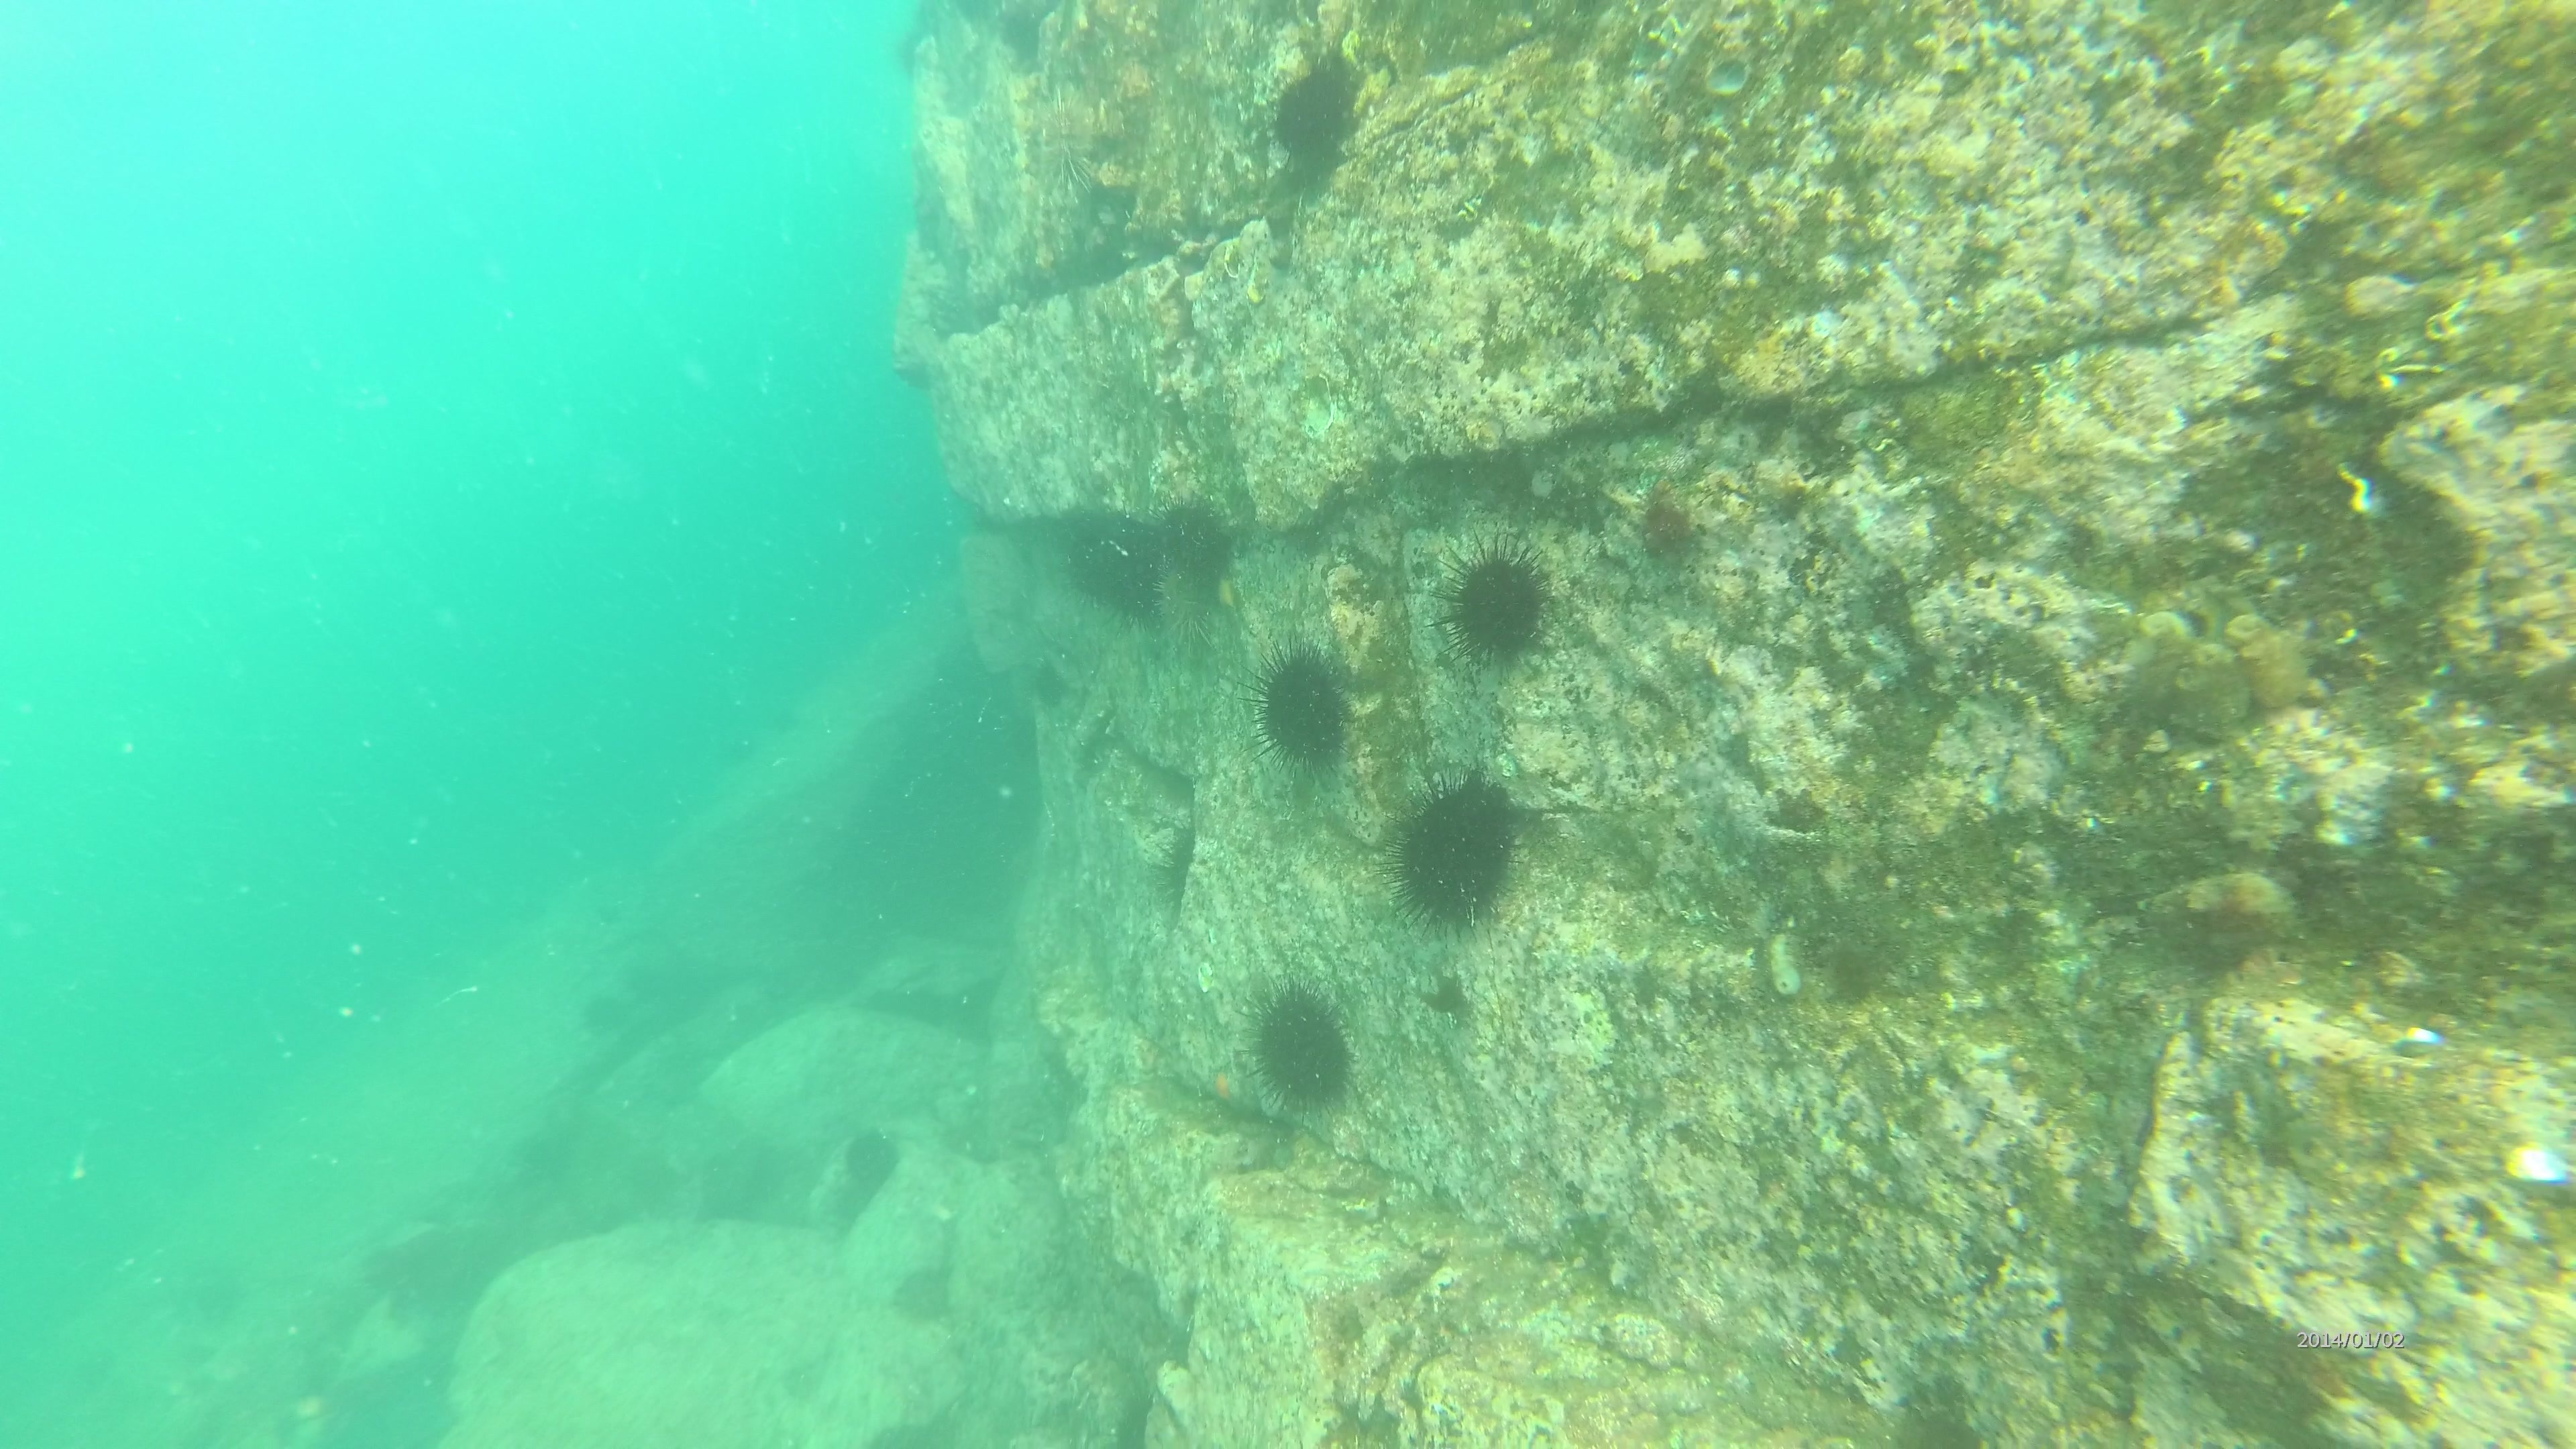echinus: (1384, 771, 1530, 931), (1242, 633, 1369, 775), (1253, 980, 1366, 1132), (1433, 536, 1548, 674), (1154, 494, 1244, 584), (1279, 64, 1361, 163), (1063, 522, 1154, 605), (1155, 552, 1214, 667), (835, 1125, 911, 1201), (888, 1254, 964, 1330), (561, 982, 637, 1058), (591, 955, 667, 1030), (713, 732, 766, 775), (752, 704, 805, 747)
